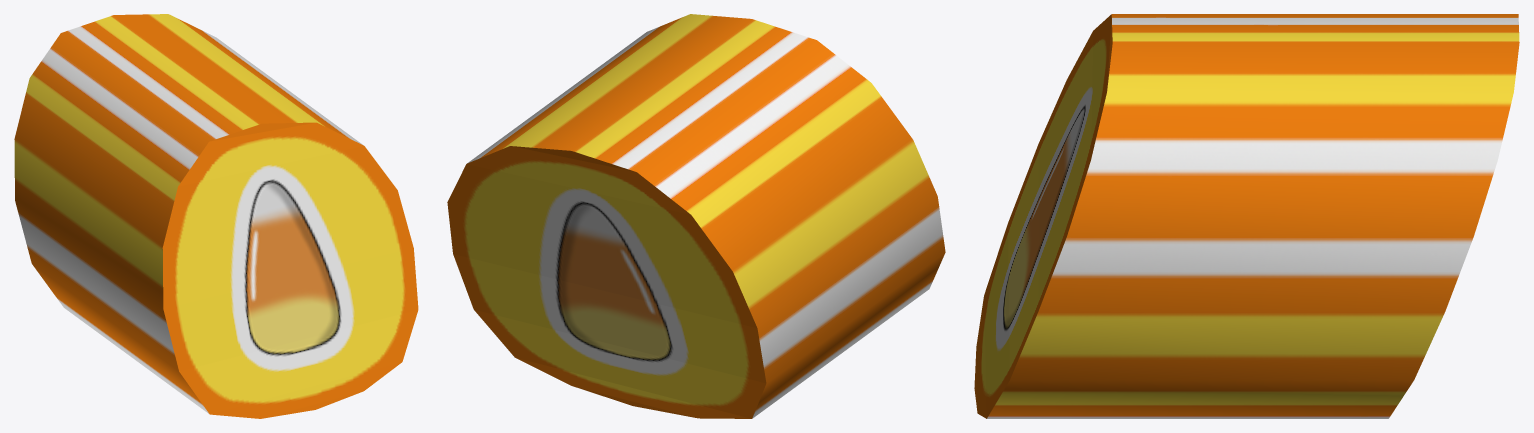
File: PowerUp_RockCandy_Mesh_v03.fbx
3 views of the same model, side by side, from view 1: azimuth 30°, elevation 25°; view 2: azimuth 150°, elevation 25°; view 3: azimuth 270°, elevation 25° (orthographic). The views are drawn at different scales.
Parts seen in each view (by area): view 1: RockCandy; view 2: RockCandy; view 3: RockCandy.
Part boxes in pixels (box(x1,y1,x2,y2)): RockCandy: box(14, 14, 418, 418); RockCandy: box(447, 14, 945, 418); RockCandy: box(974, 14, 1519, 418).
Size of the model in its own units: 175 by 167 by 240.
